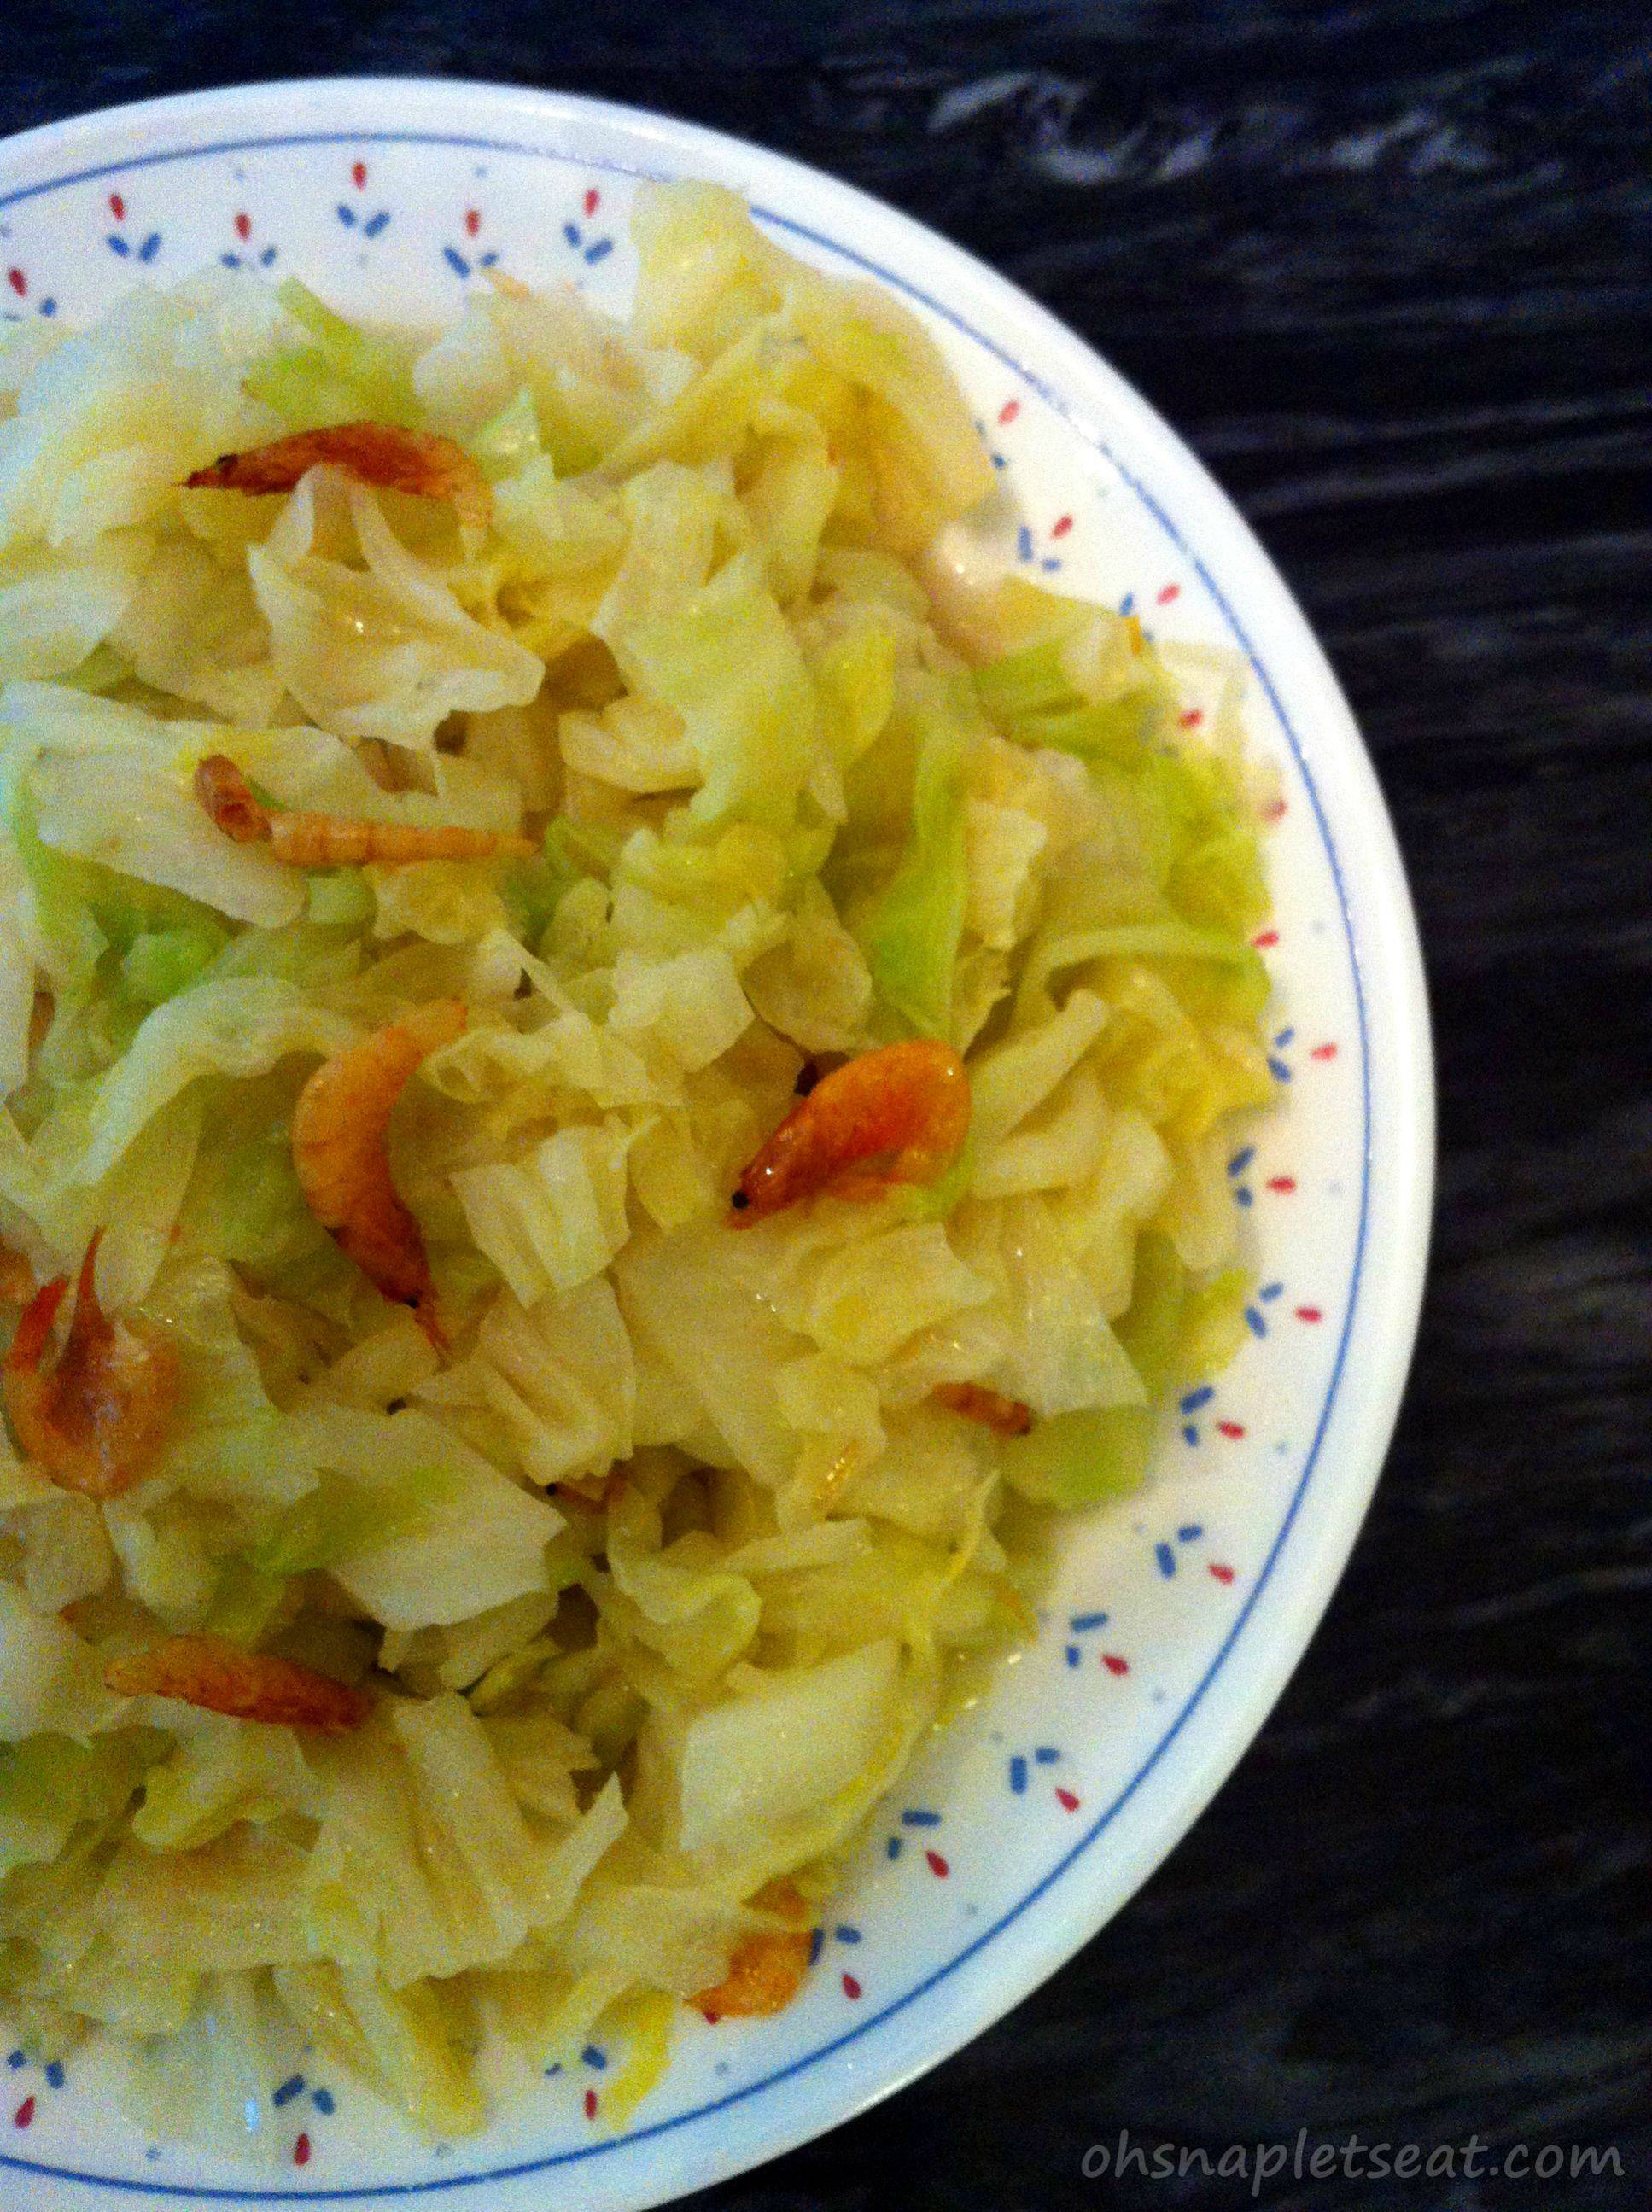chinese_cabbage: (47, 461, 1055, 1948), (472, 1109, 1131, 1567), (557, 508, 1152, 926), (382, 1447, 972, 1844), (449, 286, 960, 675), (975, 736, 1284, 1329), (212, 1319, 710, 1627), (104, 1780, 656, 2039), (36, 881, 283, 1294), (24, 488, 201, 897)
